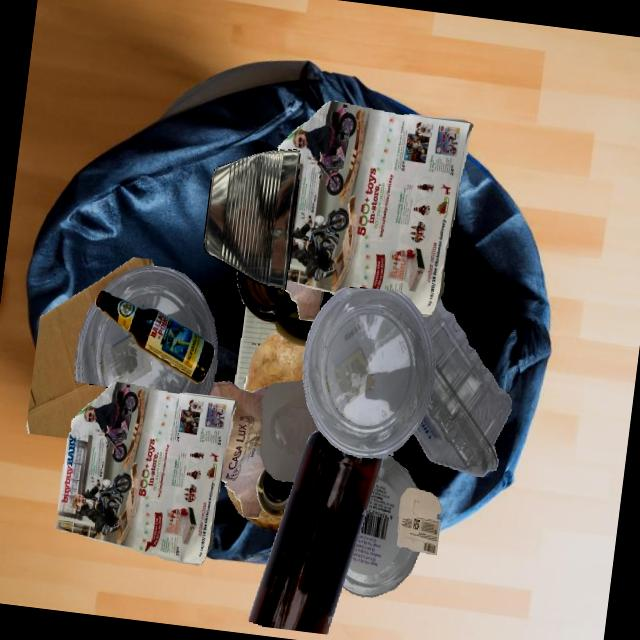biowaste: (229, 385, 270, 518), (243, 331, 305, 392), (245, 508, 282, 531)
cardboard: (26, 257, 159, 438)
glass: (248, 430, 381, 634), (95, 290, 214, 383), (236, 271, 314, 346), (255, 467, 293, 517)
metal: (203, 149, 299, 290)
paper: (277, 101, 472, 316), (54, 381, 237, 565), (209, 381, 268, 518), (234, 305, 277, 389), (396, 487, 441, 555), (284, 279, 323, 320)
plastic: (302, 287, 435, 458), (74, 266, 217, 395), (413, 298, 511, 476), (342, 455, 419, 596), (260, 380, 318, 481)
